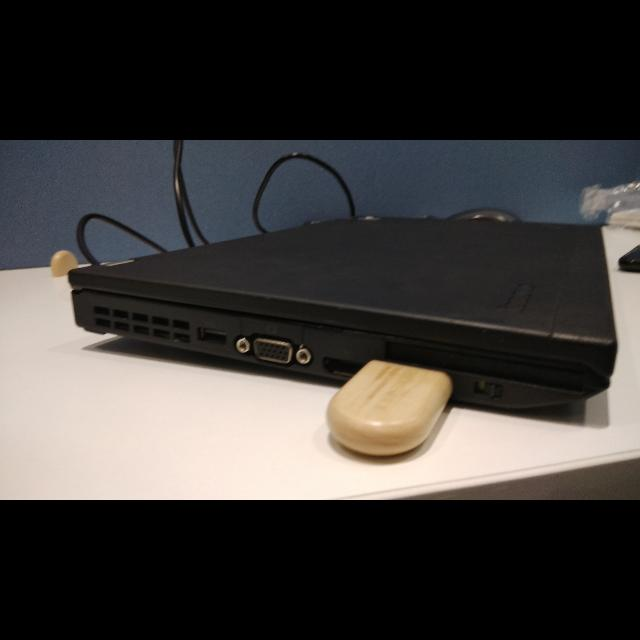Laptop: (59, 210, 623, 460)
